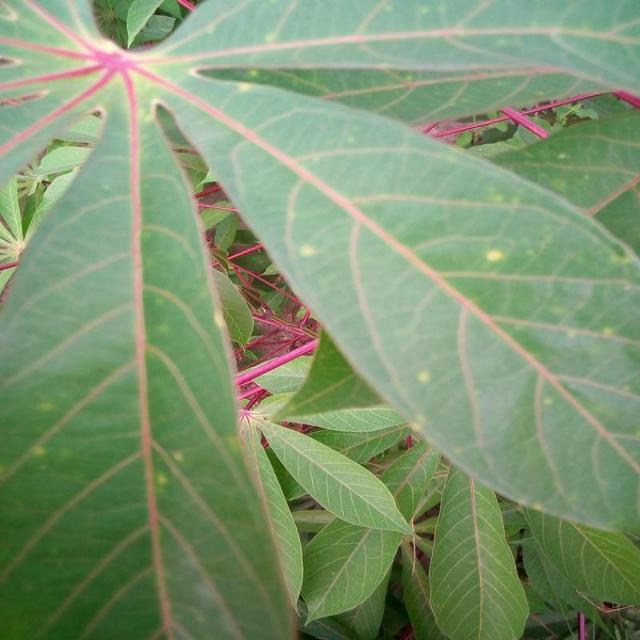cassava leaf: (1, 0, 638, 637), (0, 68, 298, 638)
